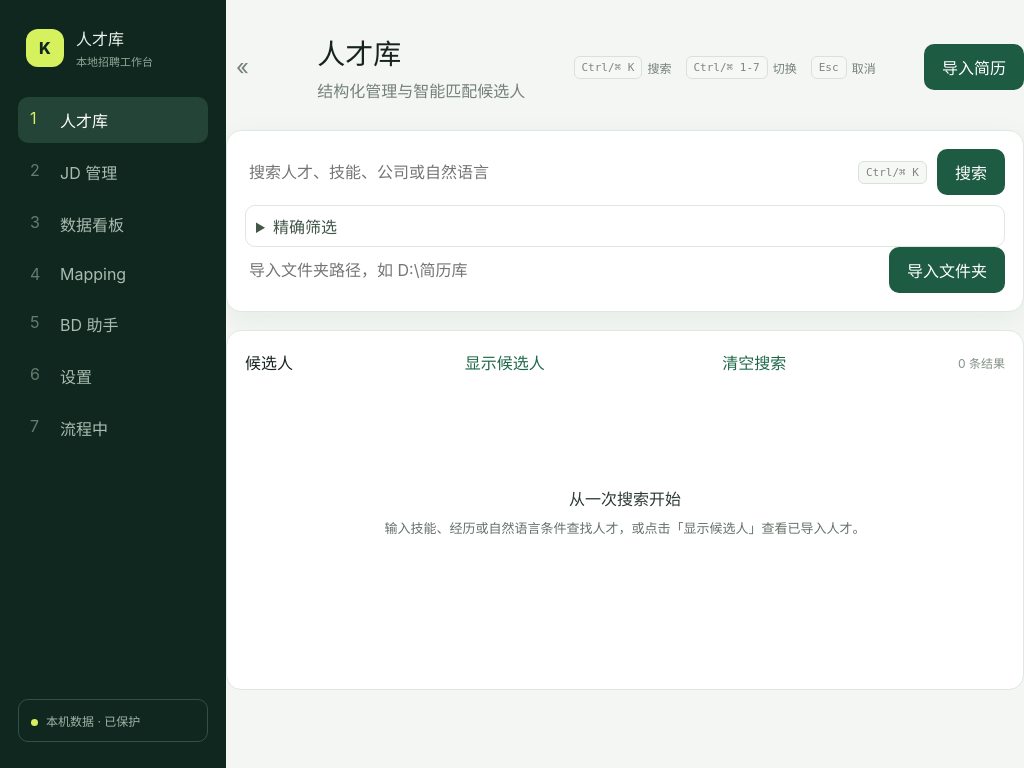
Scenario: desktop recruitment workflow › matches a JD and shows candidates in the drawer without shortlist marks
Click the button "2 JD 管理" at {"x": 113, "y": 172}, box [18,149,208,195]
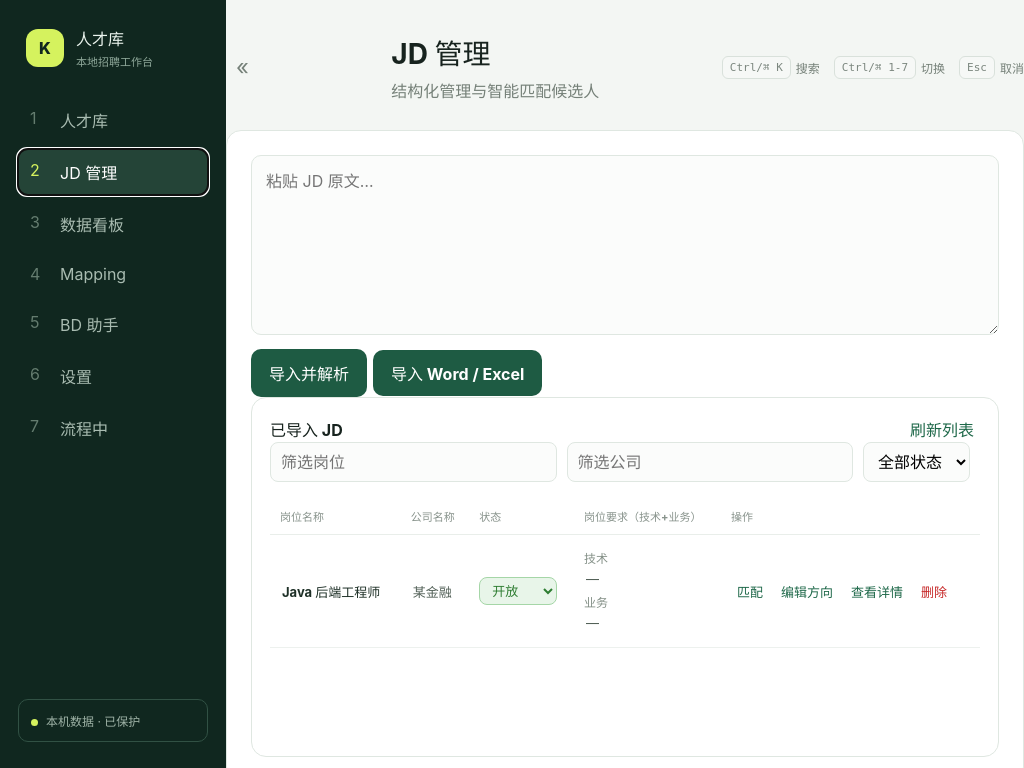
Click the button "匹配" at {"x": 750, "y": 591}, box [731,580,769,602]
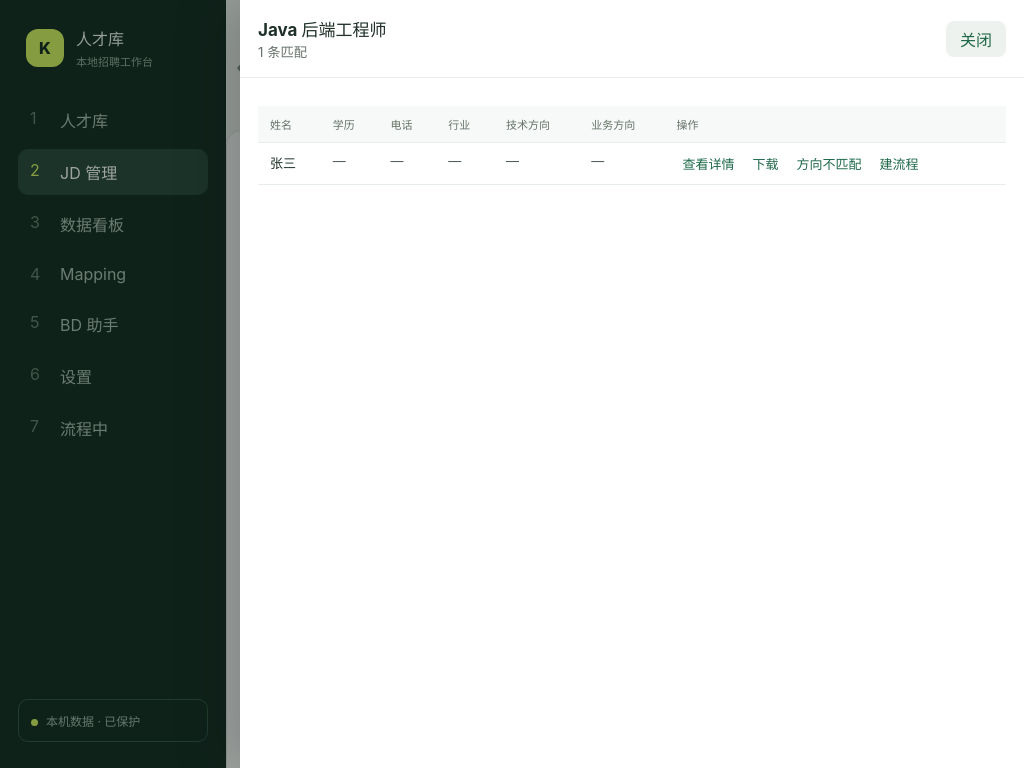
Expected: the text "张三" is shown, [270,155,296,171]
